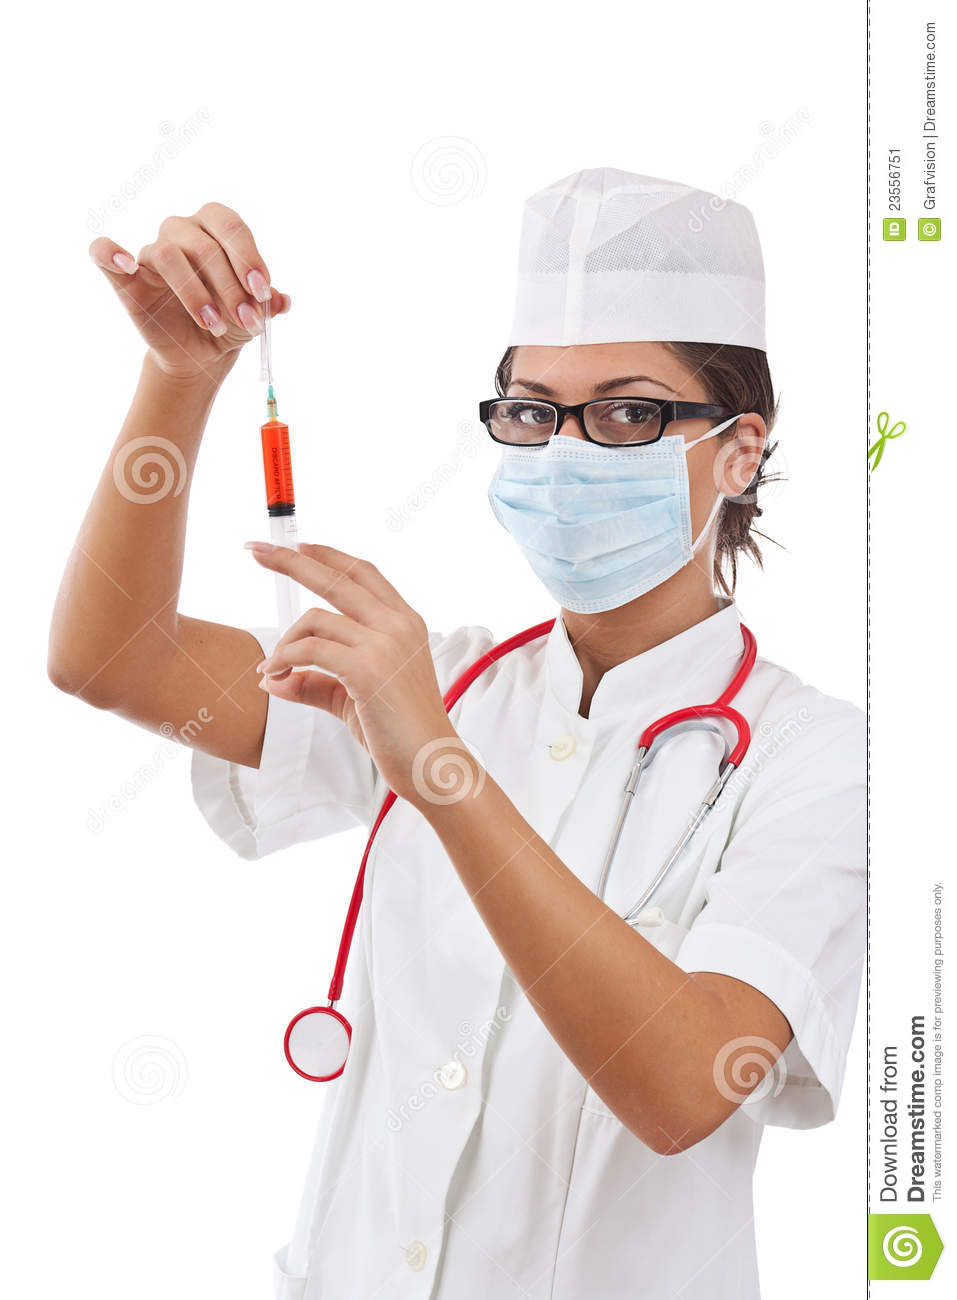mask: (483, 440, 700, 614)
